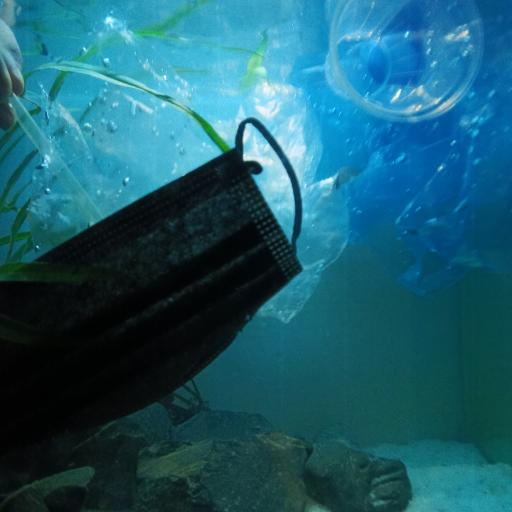mask: (0, 116, 306, 456)
plastic_bag: (28, 0, 351, 321), (309, 0, 512, 287)
plastic_cup: (325, 0, 484, 125)
plastic_straw: (11, 98, 104, 226)
